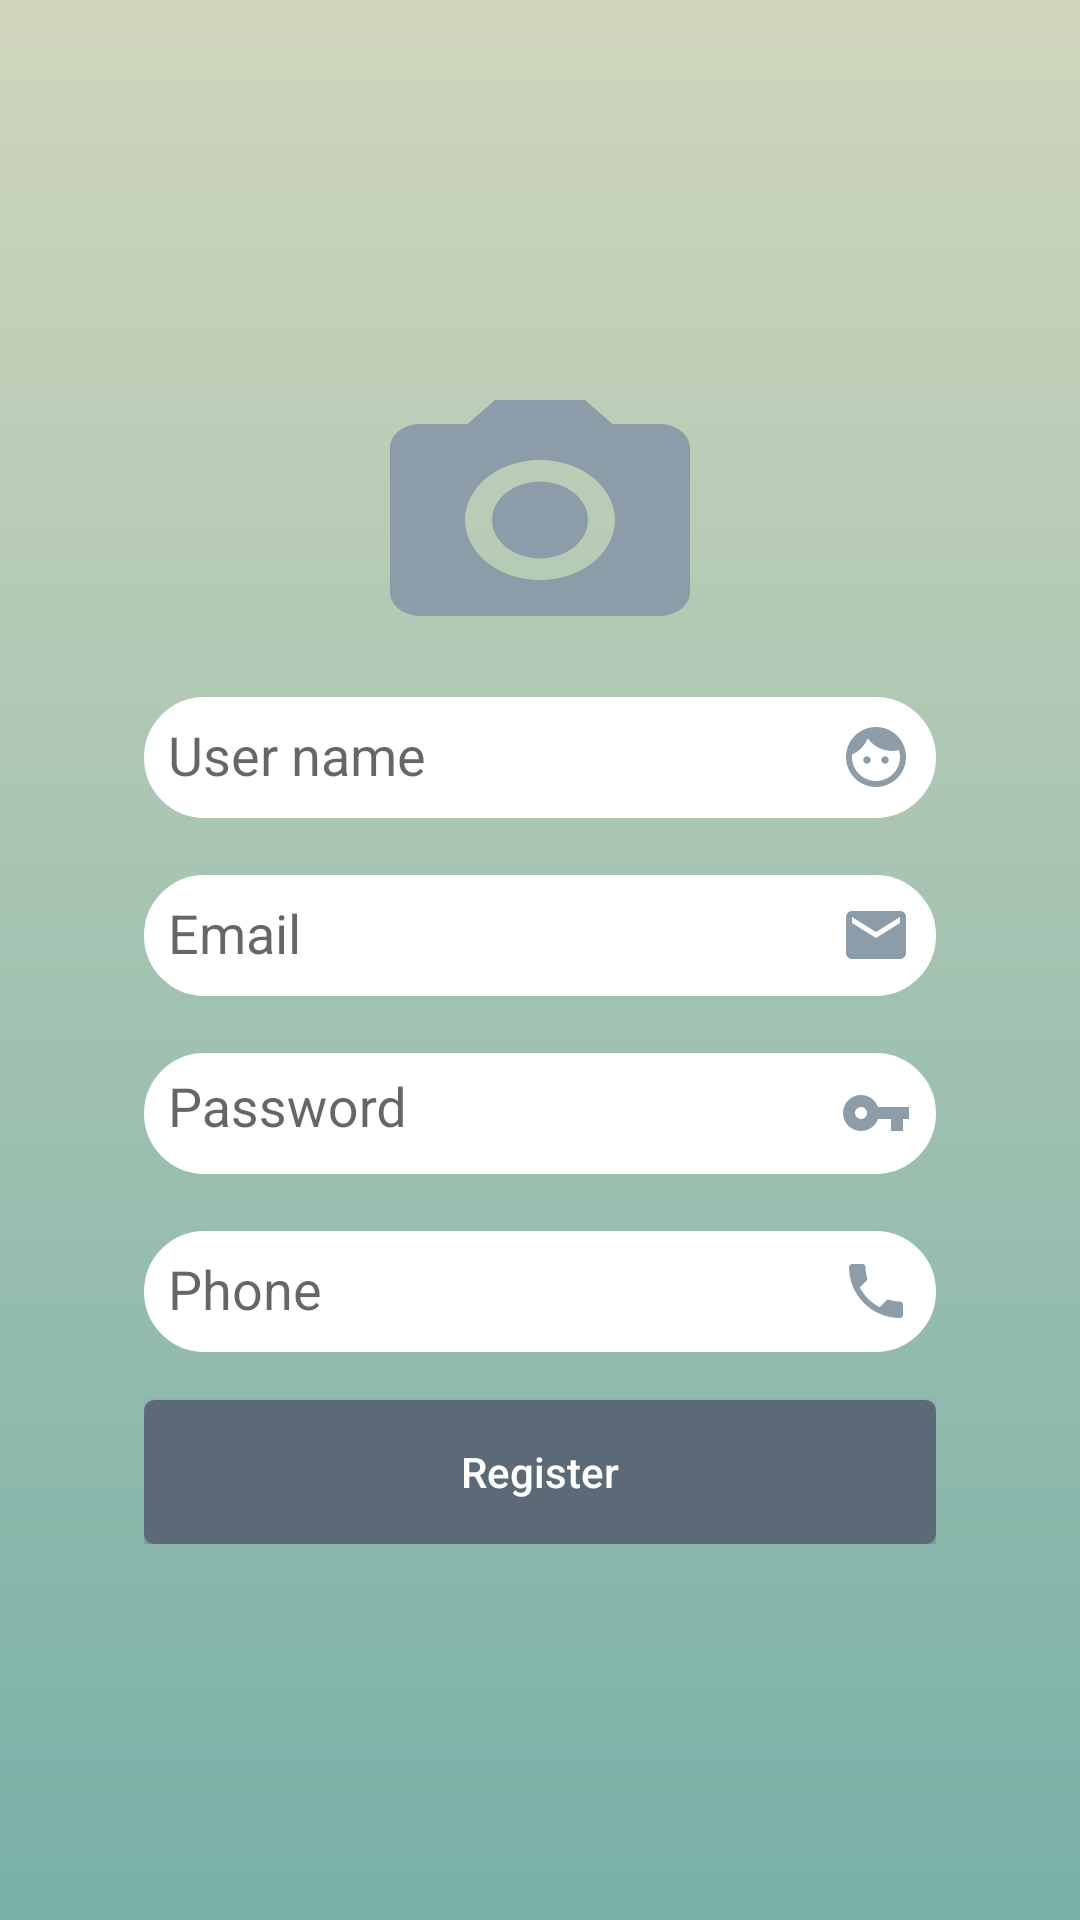

Where to tap for icons on this 1080*1920 app screen, as (x,y):
Click to add image: (540,508)
